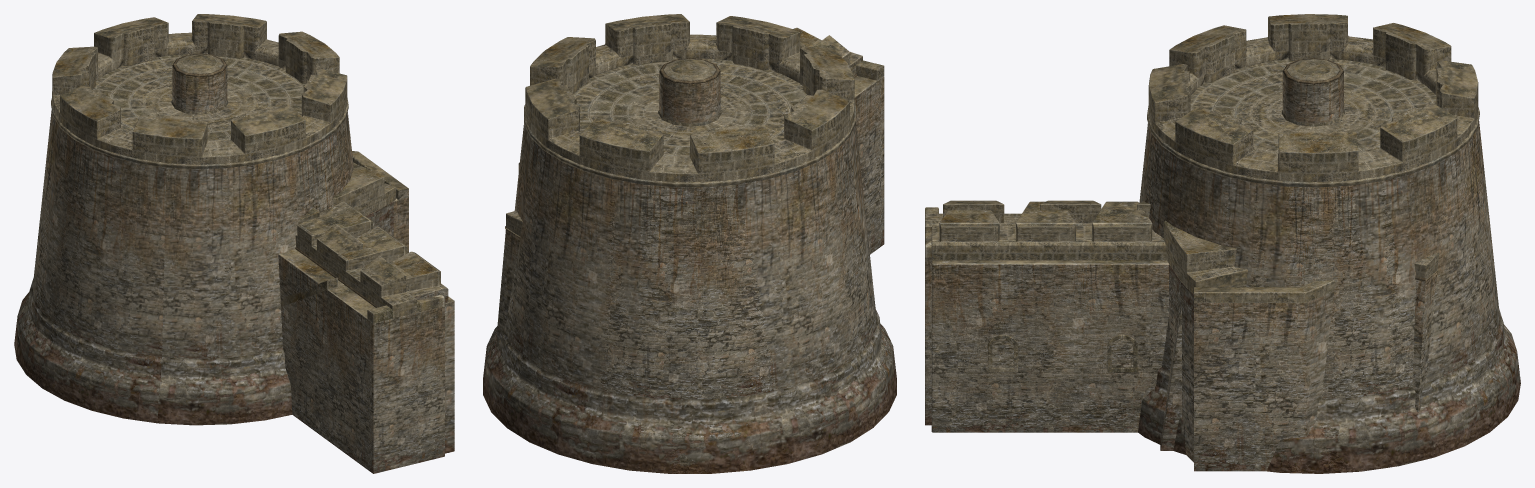
The model's file is fort_kit.glb.
3 renders of one model, left to right at view 1: azimuth 30°, elevation 25°; view 2: azimuth 150°, elevation 25°; view 3: azimuth 270°, elevation 25°, orthographic. The views are drawn at different scales.
Parts seen in each view (by area): view 1: fort_tower_round, fort_wall_stairs_straight_01, fort_wall_walkway_straight_01, fort_wall_thick_straight_01, fort_wall_thick_straight_02, fort_wall_thick_corner_02, fort_wall_thin_straight_01, fort_wall_thin_straight_02, fort_wall_walkway_straight_02, fort_wall_walkway_corner_01; view 2: fort_tower_round, fort_wall_walkway_straight_01, fort_wall_thin_corner_03, fort_wall_stairs_straight_01; view 3: fort_tower_round, fort_wall_thick_straight_01, fort_wall_walkway_corner_01, fort_wall_thick_straight_02, fort_wall_thick_corner_02, fort_wall_thin_corner_03, fort_wall_thin_straight_02, fort_wall_thick_corner_01, fort_wall_stairs_straight_01.
Boxes of the visible parts, x1,y1,x2,y2 form: fort_tower_round: [14, 14, 353, 425]; fort_wall_stairs_straight_01: [281, 278, 444, 473]; fort_wall_walkway_straight_01: [278, 254, 370, 470]; fort_wall_thick_straight_01: [297, 201, 454, 453]; fort_wall_thick_straight_02: [298, 202, 447, 296]; fort_wall_thick_corner_02: [332, 162, 395, 236]; fort_wall_thin_straight_01: [297, 218, 413, 308]; fort_wall_thin_straight_02: [295, 207, 416, 317]; fort_wall_walkway_straight_02: [279, 249, 375, 432]; fort_wall_walkway_corner_01: [352, 151, 408, 253]; fort_tower_round: [483, 14, 896, 473]; fort_wall_walkway_straight_01: [854, 79, 880, 253]; fort_wall_thin_corner_03: [495, 210, 522, 347]; fort_wall_stairs_straight_01: [854, 60, 884, 254]; fort_tower_round: [1138, 14, 1520, 473]; fort_wall_thick_straight_01: [931, 201, 1168, 432]; fort_wall_walkway_corner_01: [1194, 280, 1335, 471]; fort_wall_thick_straight_02: [932, 202, 1168, 431]; fort_wall_thick_corner_02: [1163, 220, 1247, 462]; fort_wall_thin_corner_03: [1412, 252, 1439, 412]; fort_wall_thin_straight_02: [925, 200, 1150, 231]; fort_wall_thick_corner_01: [1160, 306, 1181, 450]; fort_wall_stairs_straight_01: [925, 207, 938, 425].
Bounding box in the file's own units: 15.84 × 13.67 × 22.74.
3 materials, 3 textured.
